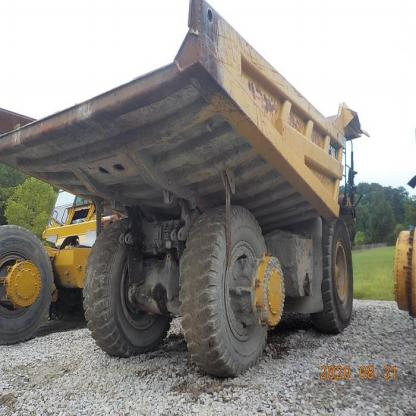dump_truck: (2, 8, 358, 371)
